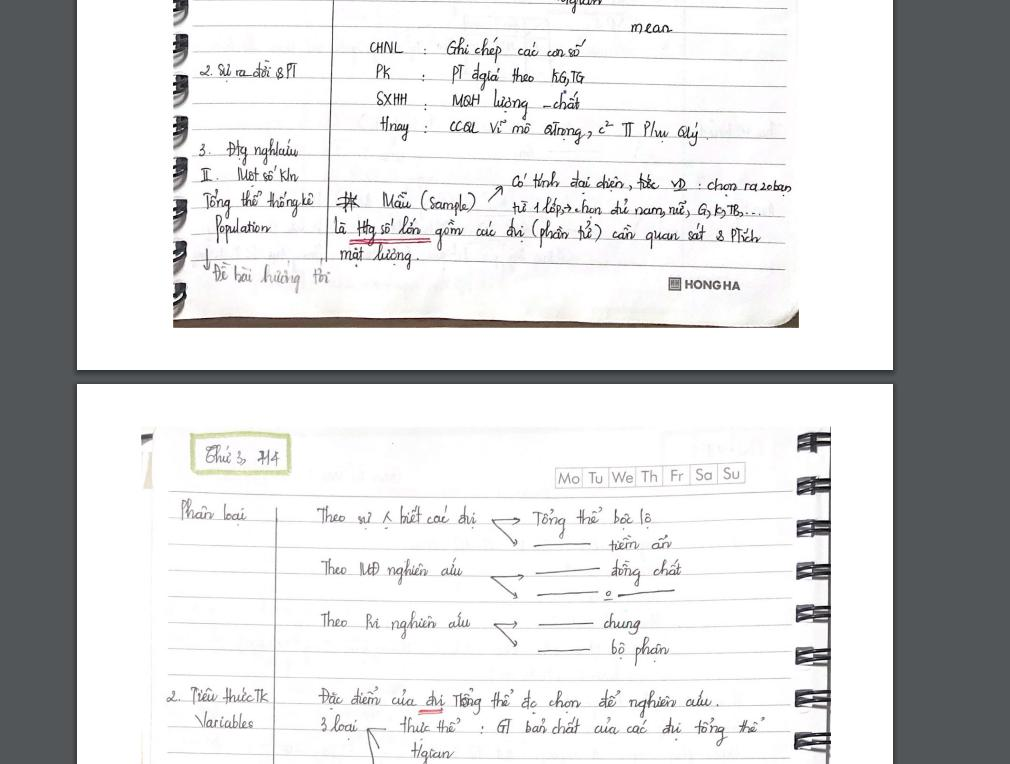text: (332, 214, 764, 252), (316, 686, 722, 720), (397, 714, 768, 747), (507, 167, 794, 197), (447, 116, 702, 149), (510, 196, 759, 220), (313, 502, 479, 534), (318, 608, 474, 640), (318, 555, 466, 587), (447, 59, 587, 92), (211, 256, 332, 294), (532, 503, 652, 541), (554, 464, 740, 488), (444, 34, 588, 62), (450, 89, 582, 119), (200, 187, 318, 220), (195, 136, 301, 167), (164, 682, 270, 708), (380, 188, 478, 216), (197, 57, 299, 83), (199, 162, 301, 188), (338, 241, 418, 273), (609, 556, 684, 588), (176, 496, 250, 528), (608, 634, 671, 668), (212, 213, 274, 244), (203, 444, 281, 468), (606, 533, 674, 555), (192, 708, 255, 731), (318, 712, 360, 741), (407, 740, 455, 764), (599, 612, 644, 636), (376, 114, 412, 143), (680, 277, 742, 292), (551, 0, 604, 17), (372, 89, 411, 108), (628, 20, 674, 35), (364, 39, 406, 55), (372, 61, 393, 84), (602, 588, 614, 603)
